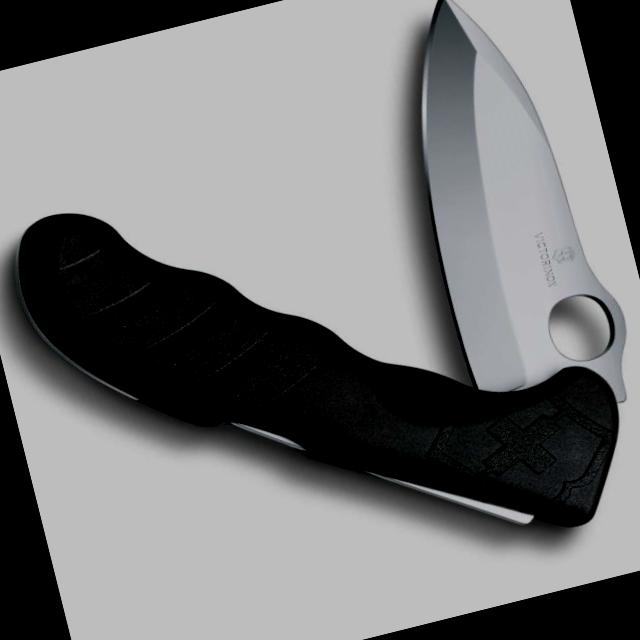knife: (363, 0, 636, 411)
